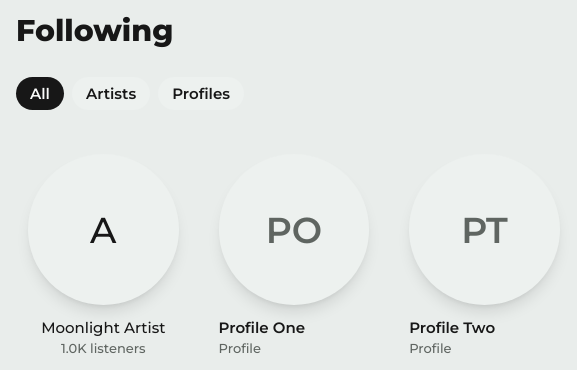
profile following controls › combines followed artists and profiles and filters each category
This screenshot has width=577, height=370.
Expected: the text "Moonlight Artist" is shown once, [41,318,166,337]
Expected: the text "Profile One" is shown, [219,318,305,337]
What coordinates should you click on to do the following:
click the button "Profiles"
I would click on:
 (201, 94)
Its box is [158,77,244,110].
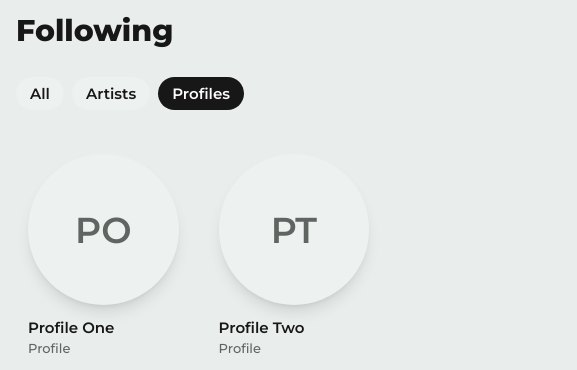
Expected: the text "Profile One" is shown, [28,318,114,337]
Result: the link "Moonlight Artist" is gone
What coordinates should you click on to do the following:
click the button "Artists"
I would click on:
 (111, 94)
Its box is [72,77,150,110].
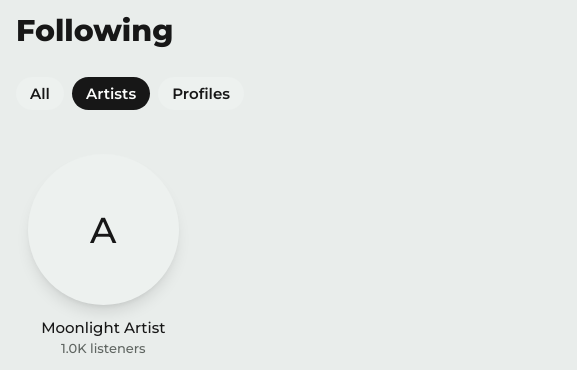
Result: the text "Moonlight Artist" is shown at [41,318,166,337]
Result: the link "Profile One" is gone
